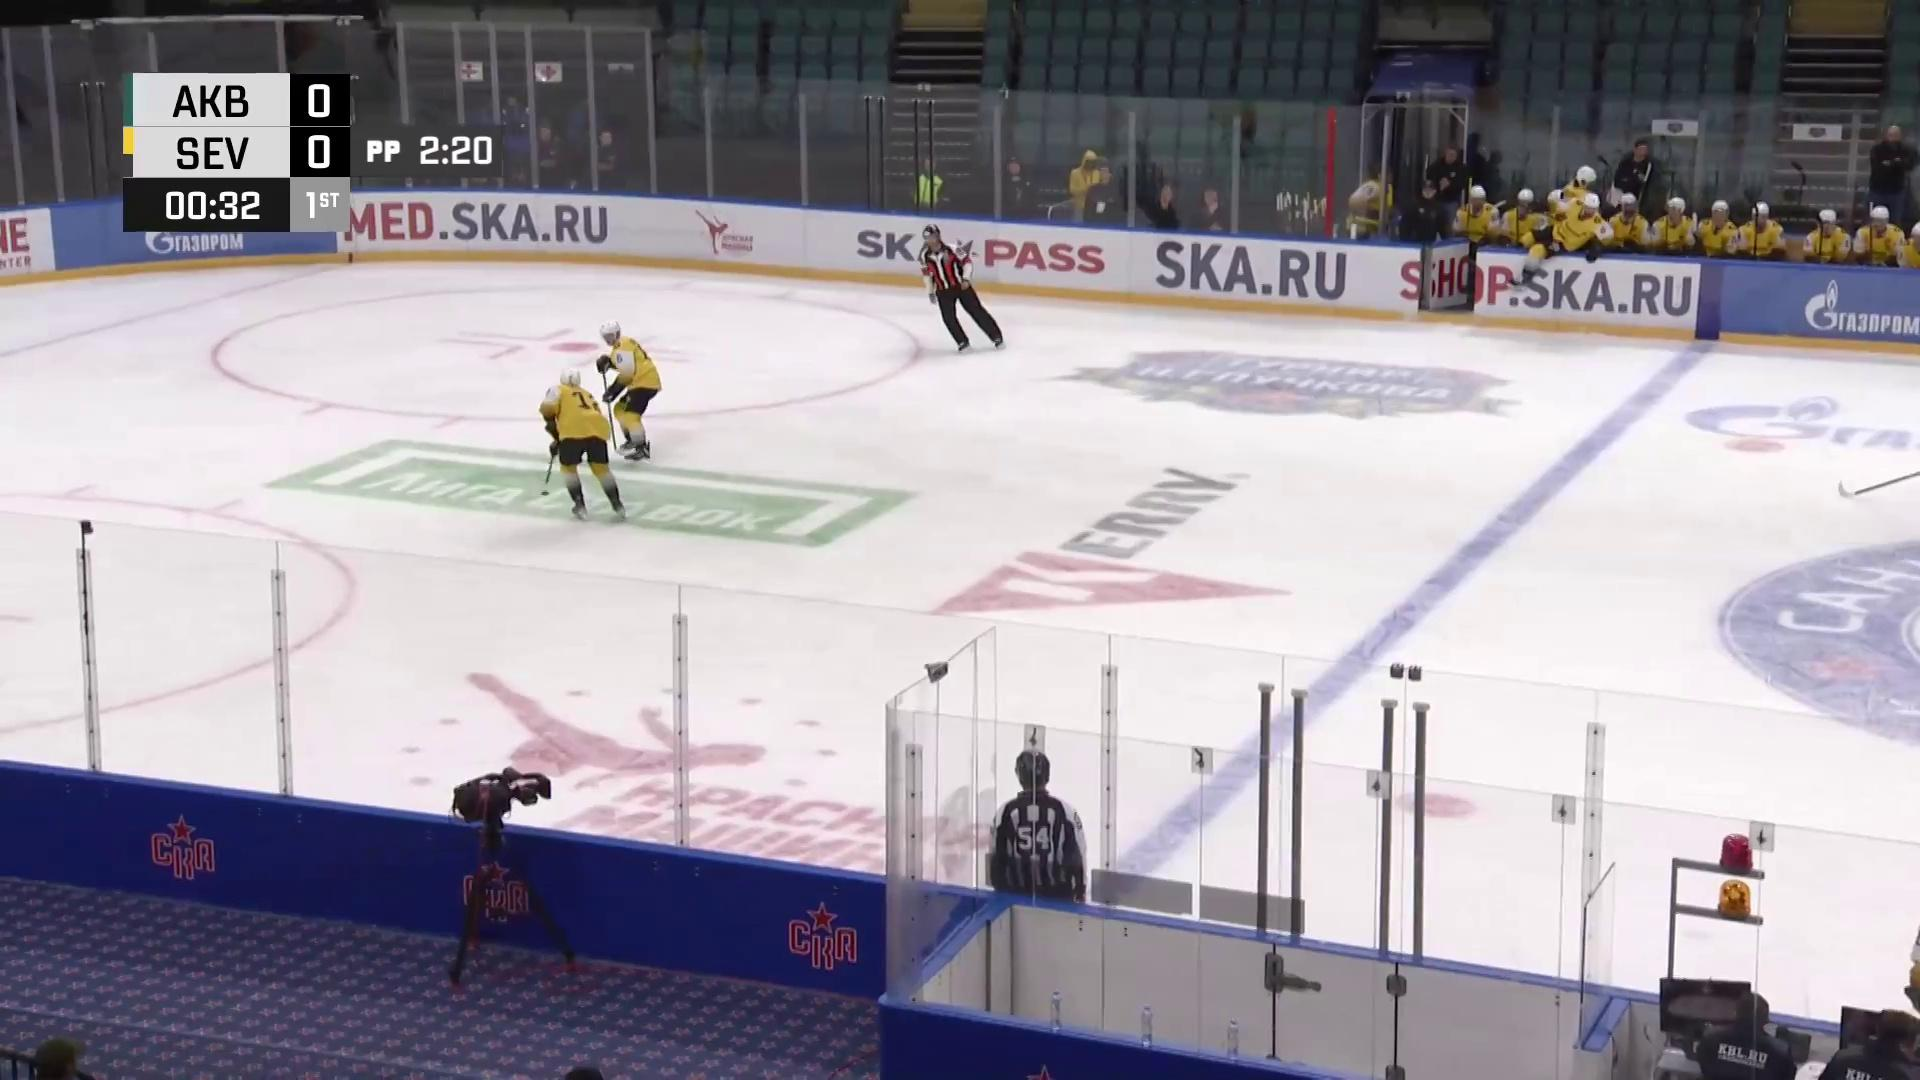ball: (541, 491, 550, 496)
